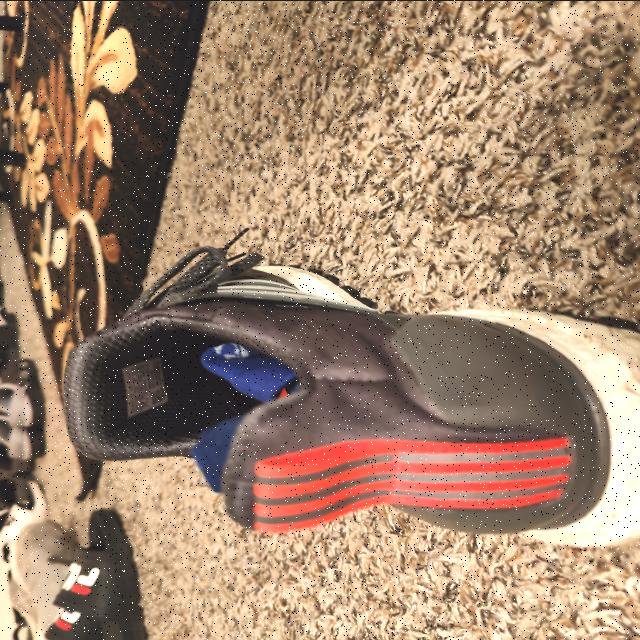black shoes: (68, 291, 635, 529)
